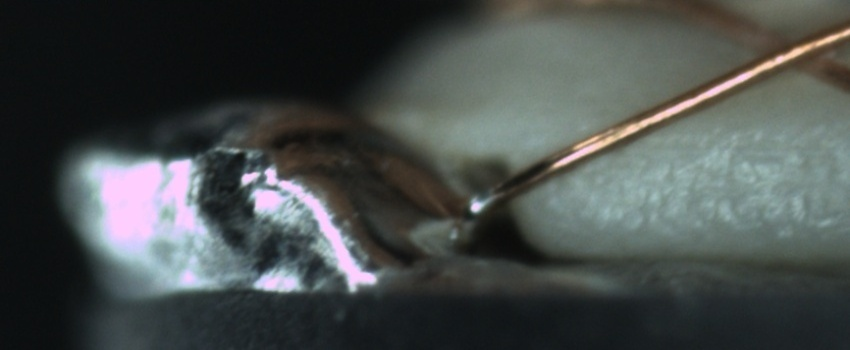CL: (749, 12, 842, 82)
DL: (620, 115, 844, 172)
